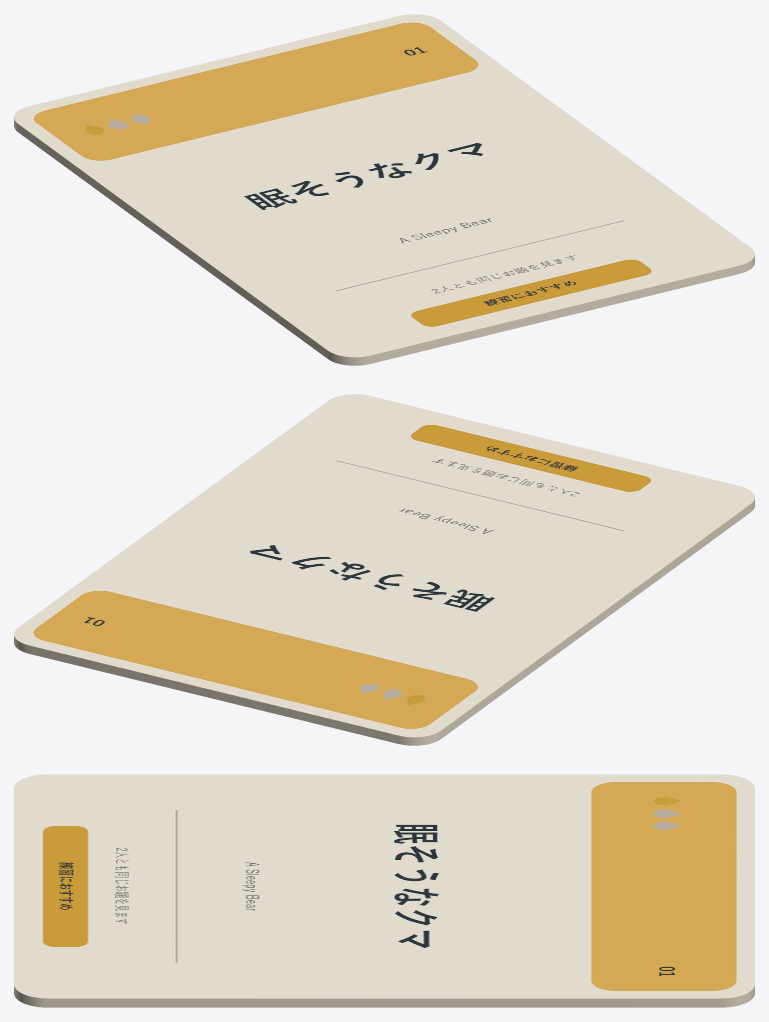
The model's file is prompt_01_sleepy.glb.
3 views of the same model, one above another, from view 1: azimuth 30°, elevation 25°; view 2: azimuth 150°, elevation 25°; view 3: azimuth 270°, elevation 25° (orthographic). The views are drawn at different scales.
Parts seen in each view (by area): view 1: prompt_01_sleepy; view 2: prompt_01_sleepy; view 3: prompt_01_sleepy.
Part boxes in pixels (x1,y1,x2,y2): prompt_01_sleepy: [14, 14, 754, 365]; prompt_01_sleepy: [14, 394, 754, 745]; prompt_01_sleepy: [14, 774, 754, 1007].
Bounding box in the file's own units: 0.063 × 0.0012 × 0.088.
3 materials, 2 textured.
